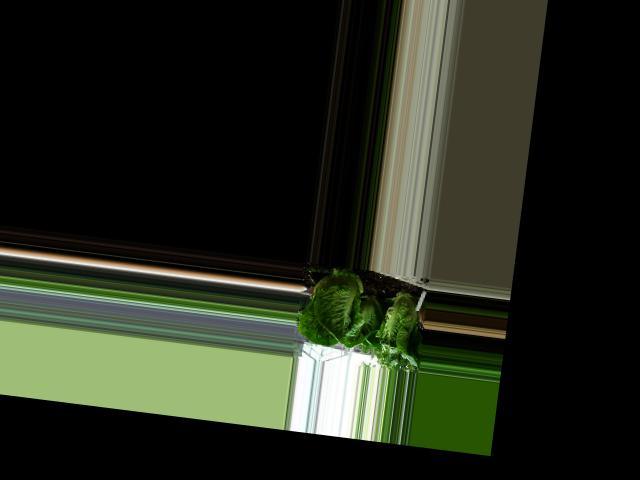lettuce: (372, 279, 424, 364)
